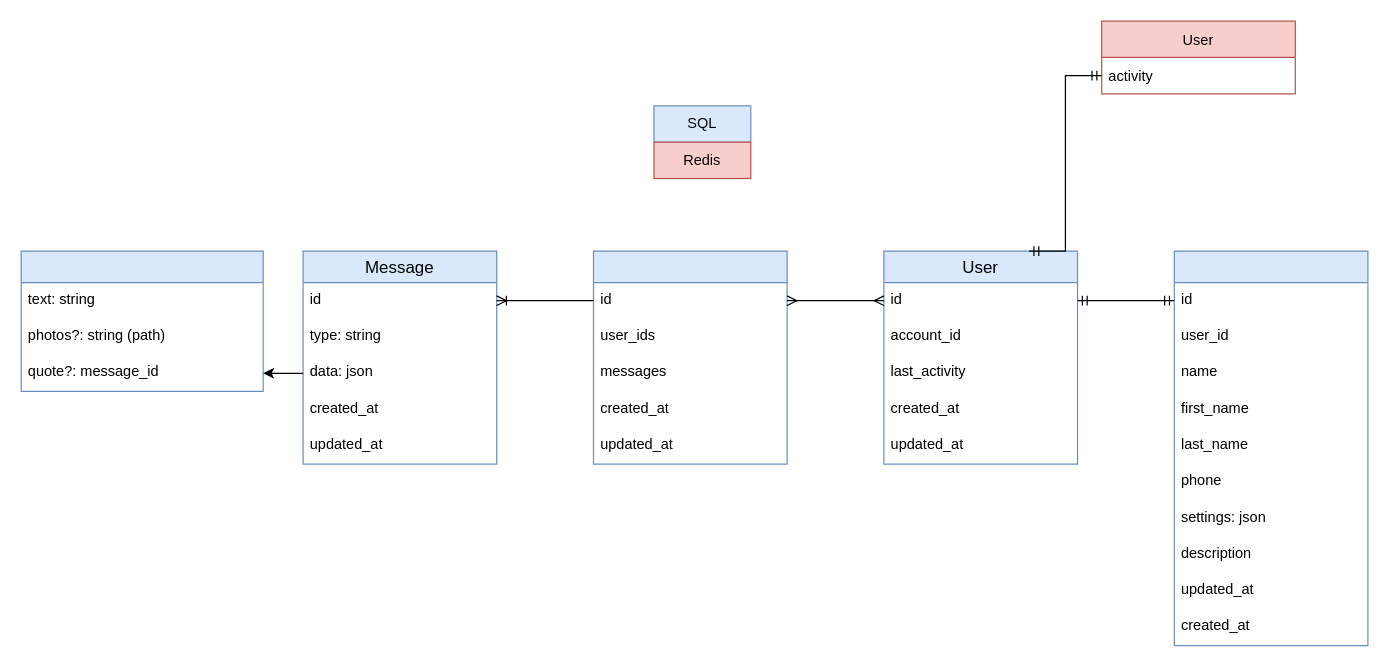
This 1389x670 diagram has some shape labels left out. The box of each missing label's shape, as (x1, y1, x2, y2) in pixels:
Account: (1173, 250, 1368, 646)
Chat: (592, 250, 787, 464)
Message_data: (20, 250, 263, 391)
